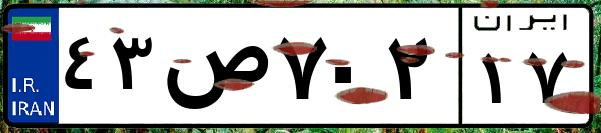0: (330, 28, 385, 110)
1: (475, 38, 525, 113)
2: (385, 28, 445, 110)
3: (110, 28, 158, 98)
4: (57, 26, 110, 100)
7: (270, 28, 330, 110), (525, 38, 570, 115)
ص: (158, 20, 270, 120)
